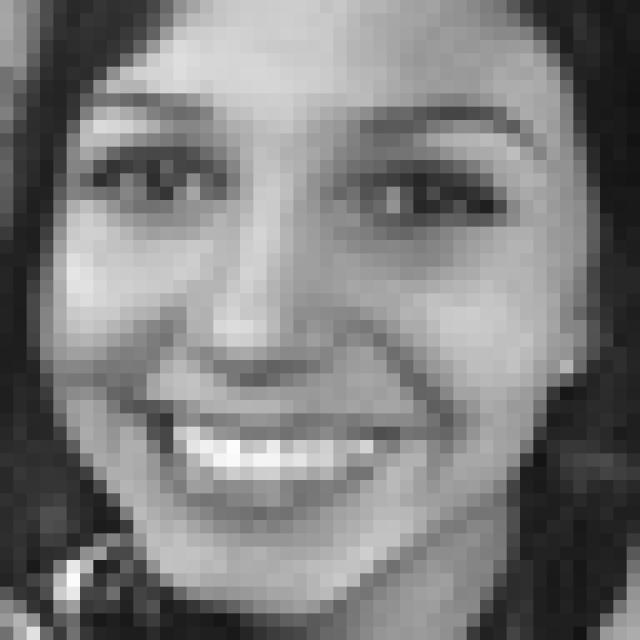happy: (77, 78, 554, 537)
